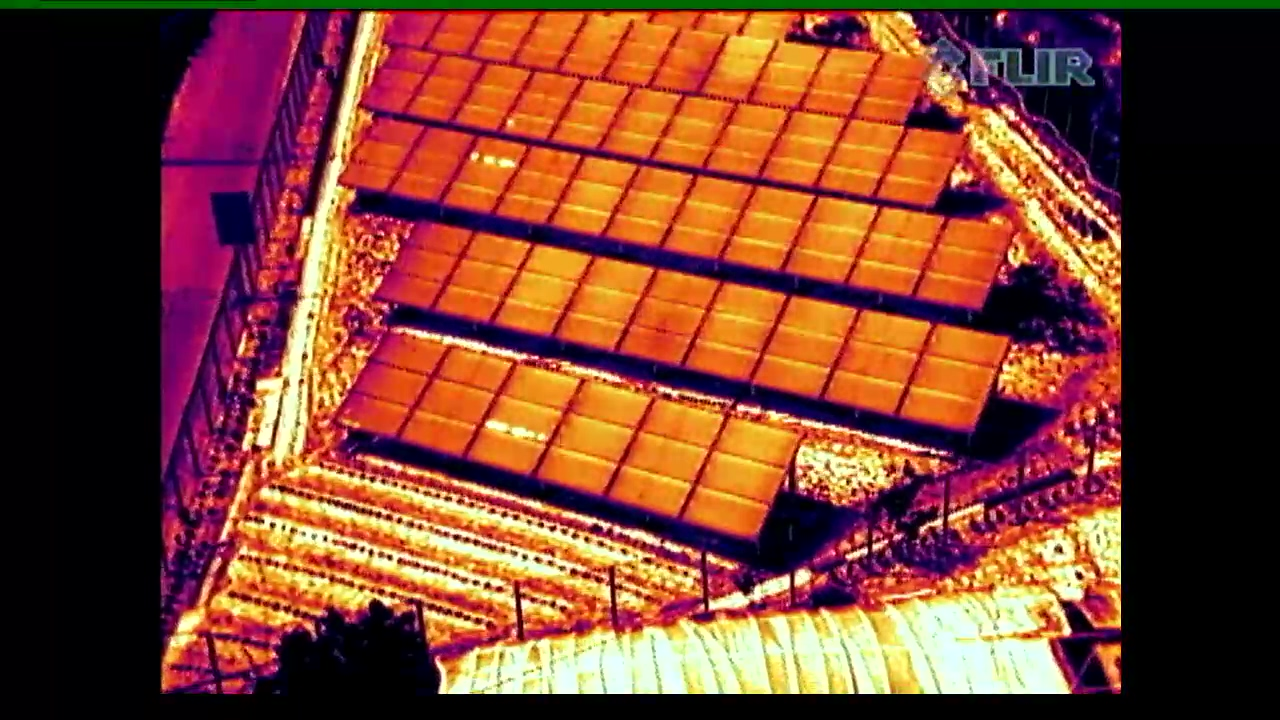hotspot: (464, 368, 581, 475), (441, 134, 529, 221), (501, 73, 582, 133)
